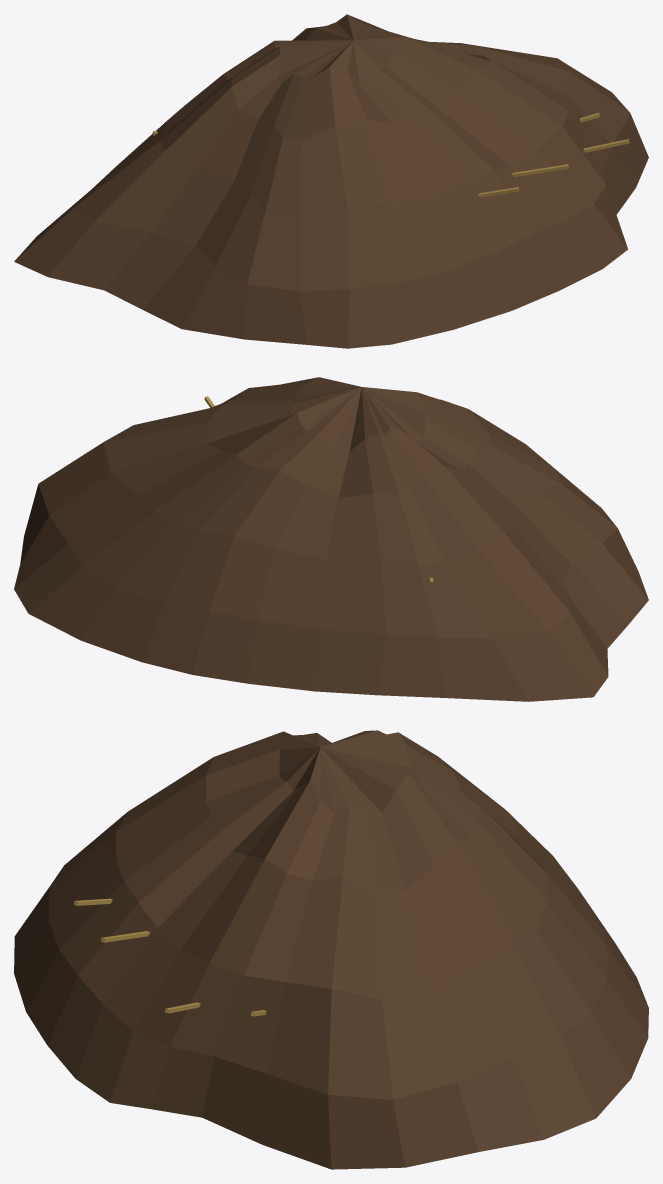
The model's file is FARM_MUCK_PILE_SMALL_LODs.fbx.
The picture shows the model from 3 angles, top to bottom: view 1: azimuth 30°, elevation 25°; view 2: azimuth 150°, elevation 25°; view 3: azimuth 270°, elevation 25°; orthographic projection. The views are drawn at different scales.
Visible parts, largest first — view 1: FARM_MUCK_PILE_SMALL_LOD0; view 2: FARM_MUCK_PILE_SMALL_LOD0; view 3: FARM_MUCK_PILE_SMALL_LOD0.
Boxes of the visible parts, x1=… form: FARM_MUCK_PILE_SMALL_LOD0: x1=14, y1=14, x2=648, y2=348; FARM_MUCK_PILE_SMALL_LOD0: x1=14, y1=377, x2=648, y2=701; FARM_MUCK_PILE_SMALL_LOD0: x1=14, y1=730, x2=648, y2=1169.
Size of what is drawn, in the model's own units: 1.45 by 0.46 by 1.1.
